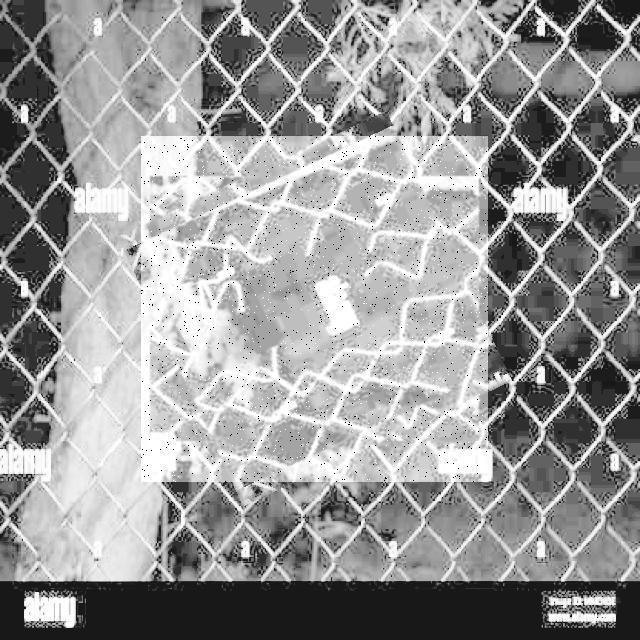anomaly-fence: (141, 136, 488, 482)
